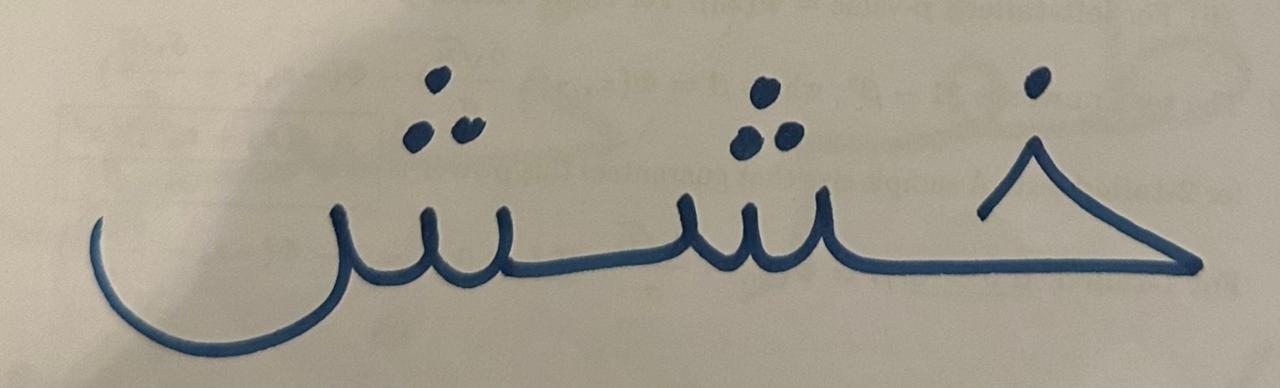lam: (879, 3, 1237, 343)
tah: (53, 25, 554, 377), (558, 6, 872, 332)
